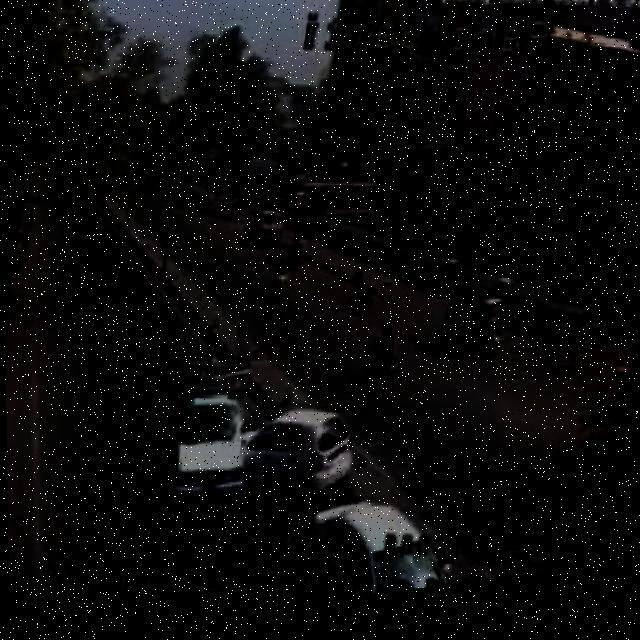Car Accident Detector - v4 Generation1 Exported: (153, 346, 366, 554)
